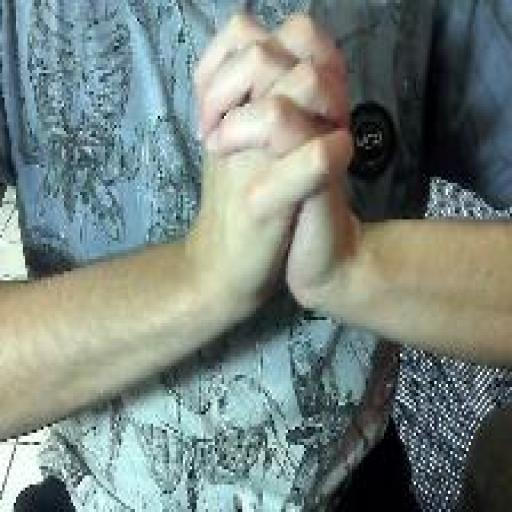Mi -snake-: (188, 8, 358, 328)
